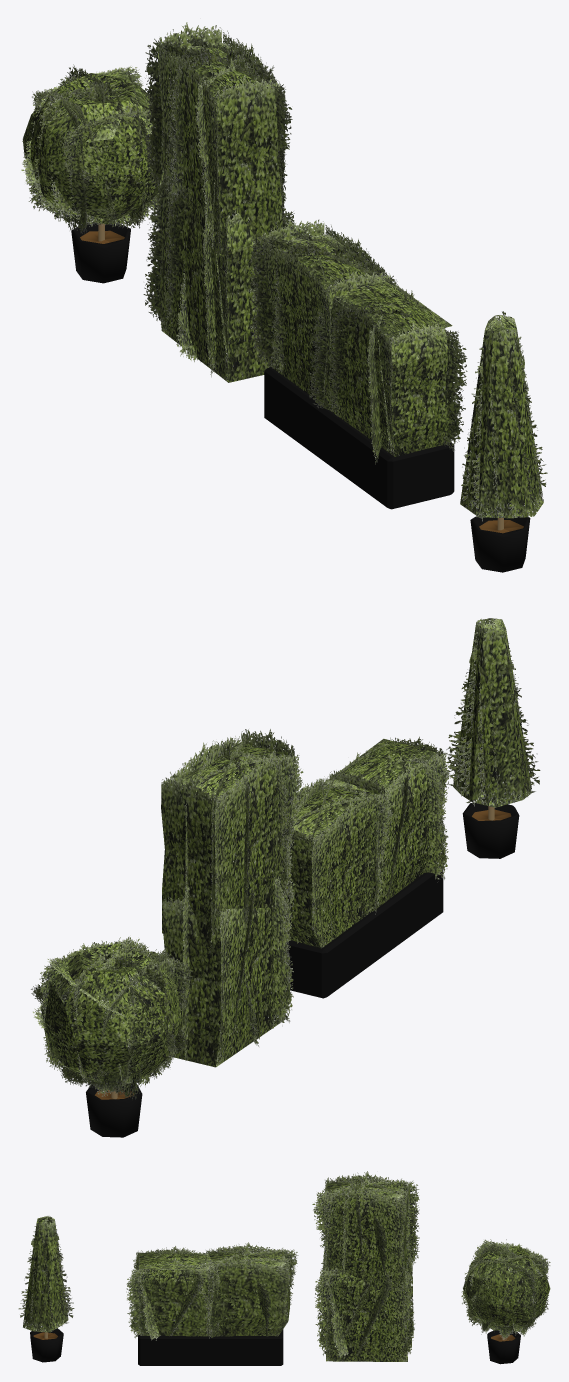
Rendered from OfficePlants.fbx.
3 views of the same model, one above another, from view 1: azimuth 30°, elevation 25°; view 2: azimuth 150°, elevation 25°; view 3: azimuth 270°, elevation 25° (orthographic). The views are drawn at different scales.
Visible parts, largest first — view 1: boxwood3, boxwood2, Boxwood1, Boxwood4; view 2: boxwood2, boxwood3, Boxwood1, Boxwood4; view 3: boxwood3, boxwood2, Boxwood1, Boxwood4.
Part boxes in pixels (<box>): boxwood3: <box>249,219,467,509</box>; boxwood2: <box>143,22,294,382</box>; Boxwood1: <box>21,64,159,283</box>; Boxwood4: <box>460,311,547,572</box>; boxwood2: <box>161,729,303,1067</box>; boxwood3: <box>287,736,450,998</box>; Boxwood1: <box>31,936,192,1137</box>; Boxwood4: <box>444,618,540,858</box>; boxwood3: <box>126,1242,298,1365</box>; boxwood2: <box>312,1171,419,1361</box>; Boxwood1: <box>461,1239,550,1364</box>; Boxwood4: <box>18,1216,74,1362</box>.
Bounding box in the file's own units: 641 × 1147 × 3063.
Materials: 4 (1 with a texture image).
